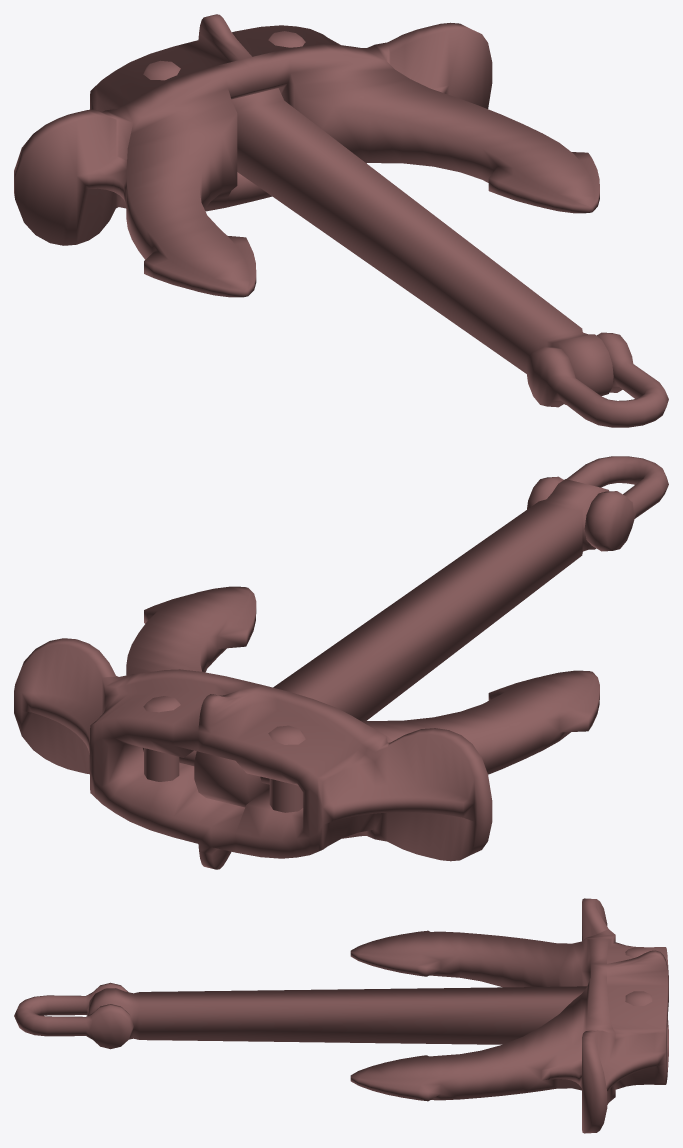
The model's file is hook_not_chain.fbx.
The picture shows the model from 3 angles, top to bottom: view 1: azimuth 30°, elevation 25°; view 2: azimuth 150°, elevation 25°; view 3: azimuth 270°, elevation 25°; orthographic projection. The views are drawn at different scales.
Visible parts, largest first — view 1: Hall_acnhor, Hall_acnhor.balk, Hall_acnhor.handle; view 2: Hall_acnhor, Hall_acnhor.balk, Hall_acnhor.handle; view 3: Hall_acnhor, Hall_acnhor.balk, Hall_acnhor.handle.
Boxes of the visible parts, x1=… form: Hall_acnhor: x1=14, y1=14, x2=599, y2=297; Hall_acnhor.balk: x1=231, y1=88, x2=613, y2=404; Hall_acnhor.handle: x1=526, y1=332, x2=668, y2=427; Hall_acnhor: x1=14, y1=586, x2=599, y2=869; Hall_acnhor.balk: x1=194, y1=479, x2=609, y2=807; Hall_acnhor.handle: x1=527, y1=456, x2=668, y2=551; Hall_acnhor: x1=350, y1=898, x2=668, y2=1133; Hall_acnhor.balk: x1=87, y1=986, x2=587, y2=1044; Hall_acnhor.handle: x1=14, y1=982, x2=133, y2=1049.
Size of the model in its own units: 267 by 91.06 by 428.
